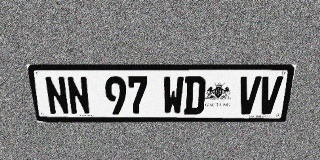7: (126, 76, 148, 115)
9: (104, 76, 127, 115)
D: (183, 76, 206, 114)
N: (44, 76, 70, 115), (66, 76, 91, 115)
V: (236, 76, 262, 114), (257, 76, 283, 114)
W: (163, 76, 184, 114)
